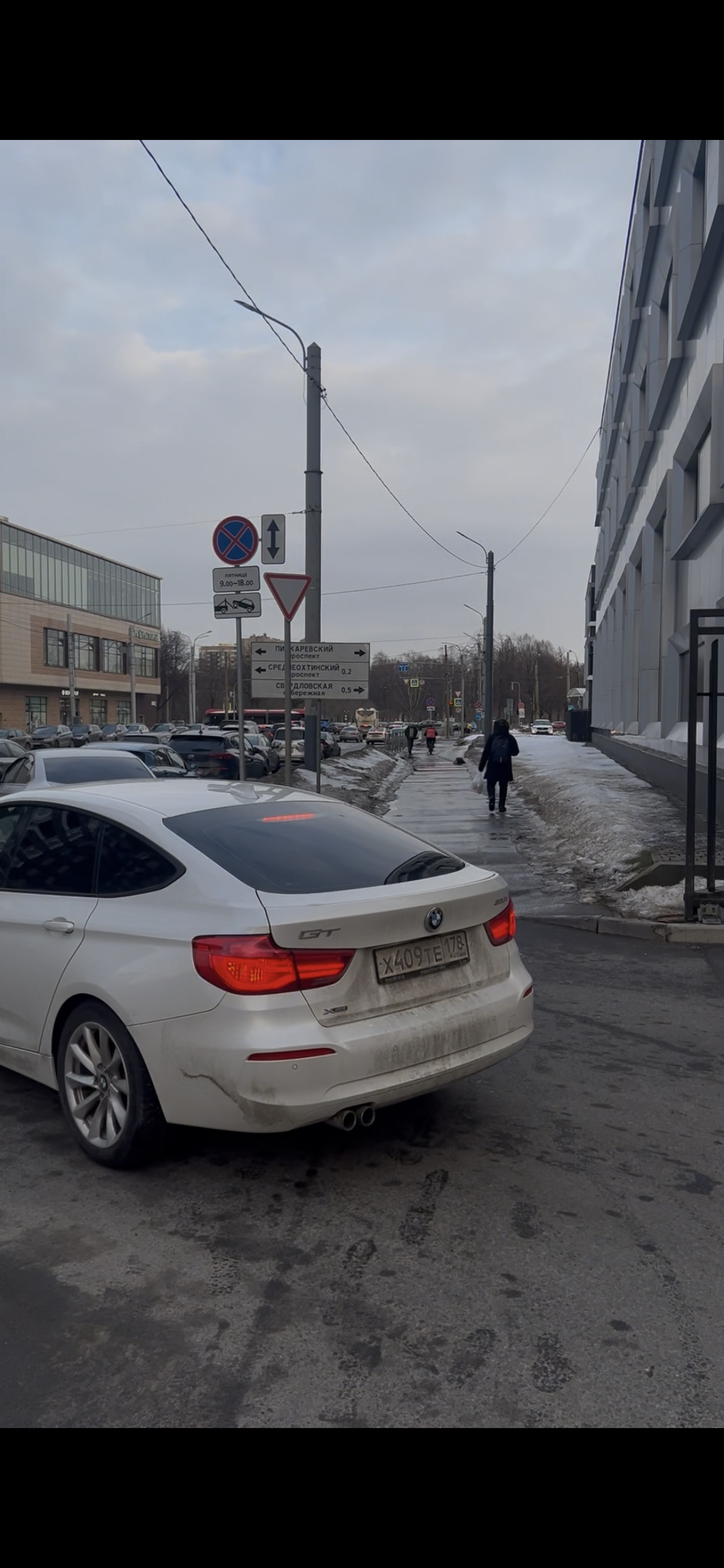road sign: (251, 641, 370, 700), (262, 573, 314, 623), (213, 566, 260, 592), (214, 593, 261, 619), (261, 514, 285, 564)
